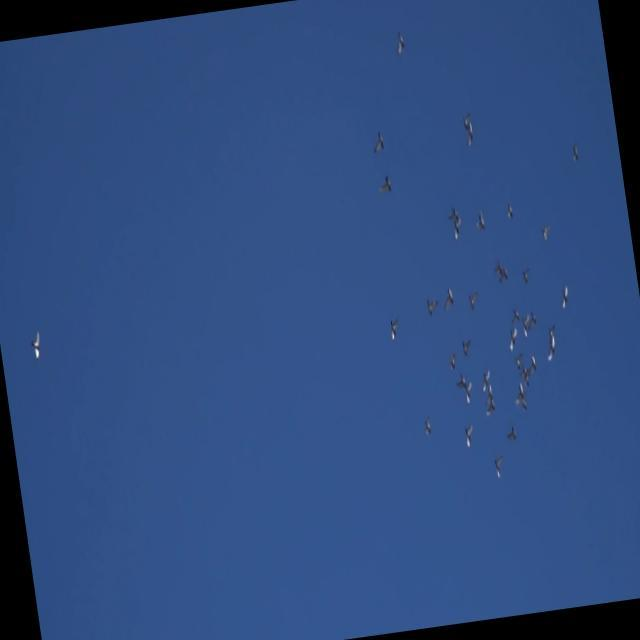bird: (27, 326, 48, 364), (543, 323, 562, 365), (513, 382, 530, 413), (375, 170, 394, 197), (439, 284, 456, 313), (460, 106, 475, 136), (463, 121, 478, 151), (473, 205, 489, 233), (388, 315, 403, 343), (507, 327, 522, 355), (370, 129, 386, 155), (558, 283, 572, 312), (445, 201, 463, 223), (393, 29, 407, 57), (493, 454, 507, 481), (479, 369, 494, 394), (463, 423, 477, 449), (496, 263, 511, 287), (424, 296, 441, 317), (463, 380, 476, 407), (568, 141, 582, 166), (451, 217, 465, 242), (521, 313, 533, 342), (491, 256, 506, 279), (514, 349, 527, 375), (484, 397, 499, 419), (526, 353, 539, 378), (422, 411, 434, 437), (447, 349, 460, 373), (467, 291, 481, 313), (540, 222, 553, 245), (460, 337, 474, 358), (504, 424, 519, 443), (504, 199, 516, 222), (526, 308, 538, 331), (455, 373, 470, 391), (519, 266, 533, 285), (509, 308, 523, 325), (522, 369, 532, 389)
